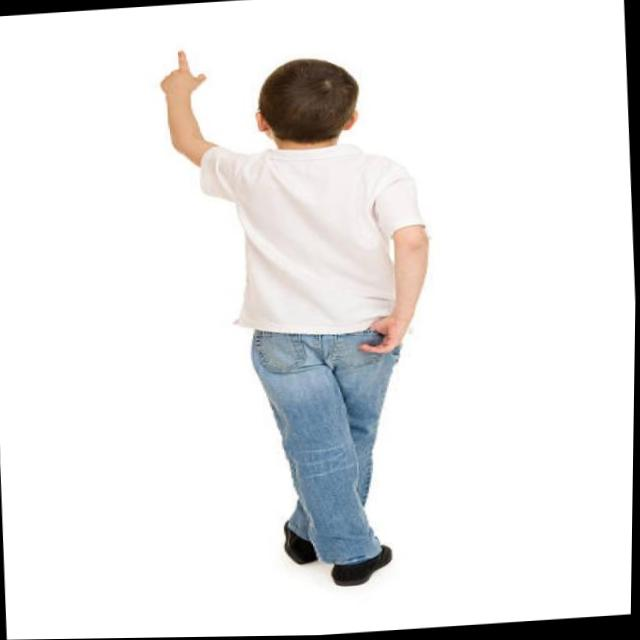no helmet: (235, 46, 394, 152)
